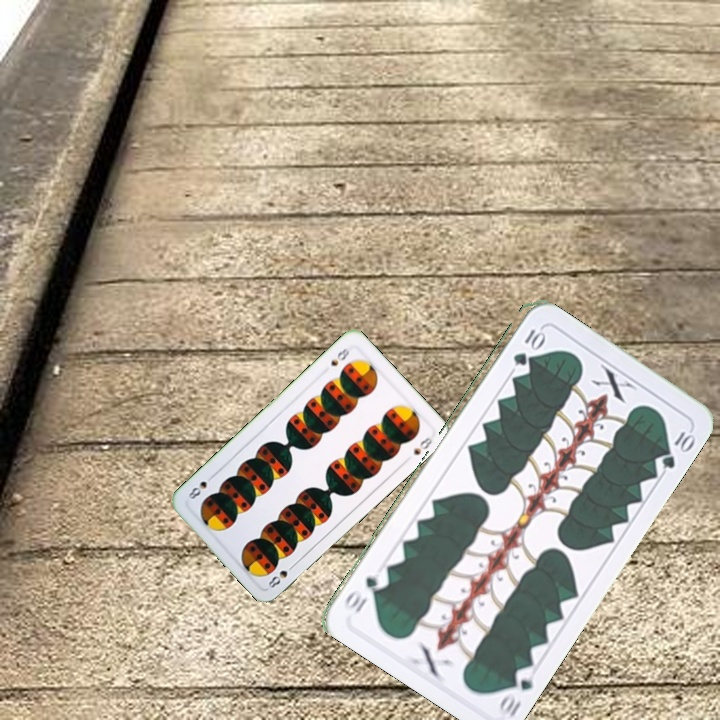G10: (495, 662, 539, 719), (509, 325, 545, 368)
S8: (264, 559, 298, 591), (326, 344, 352, 369)
